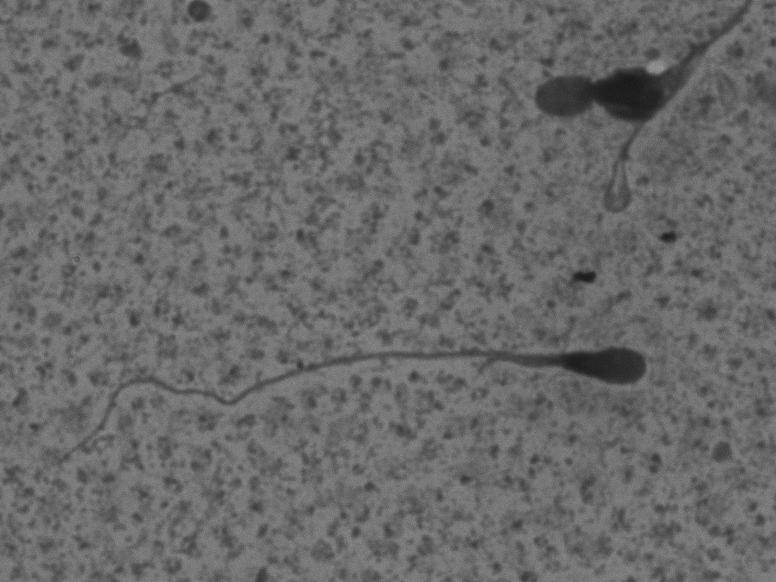Abnormal: (42, 309, 676, 476), (581, 10, 761, 218)
